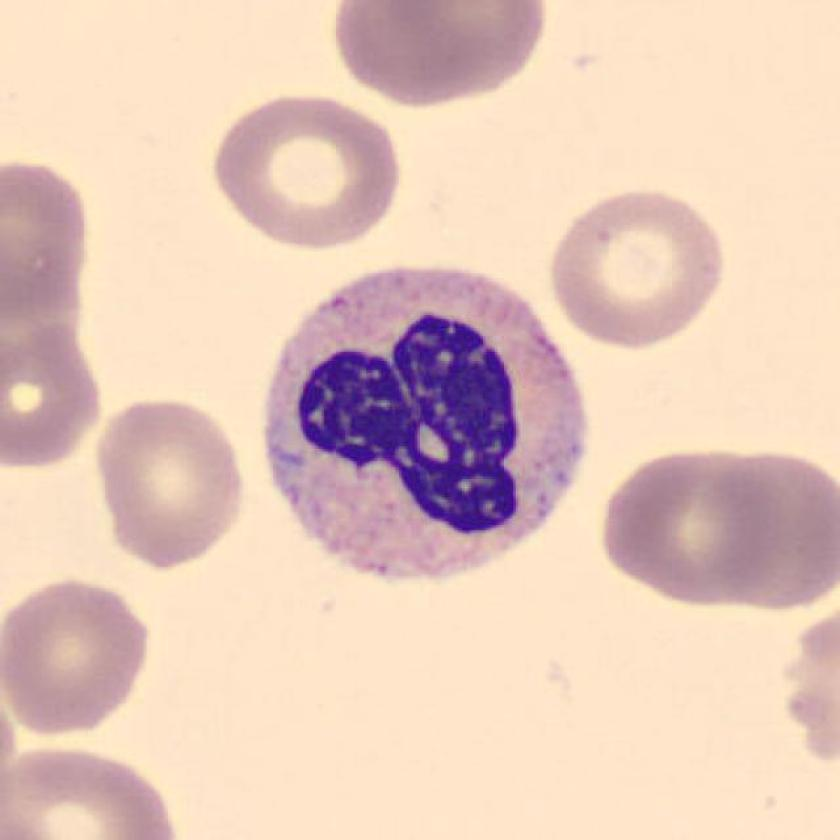neutrophil: (267, 271, 584, 584)
